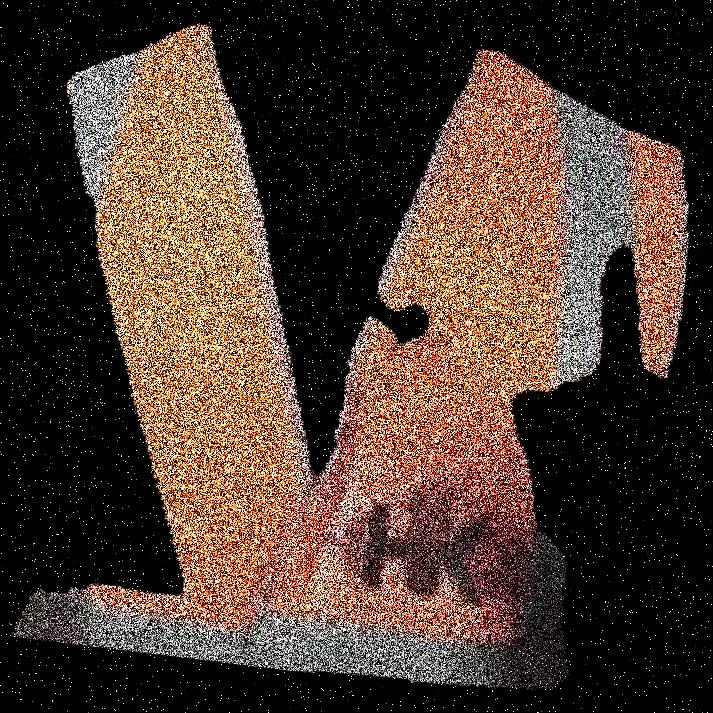Colete: (374, 0, 624, 712)
